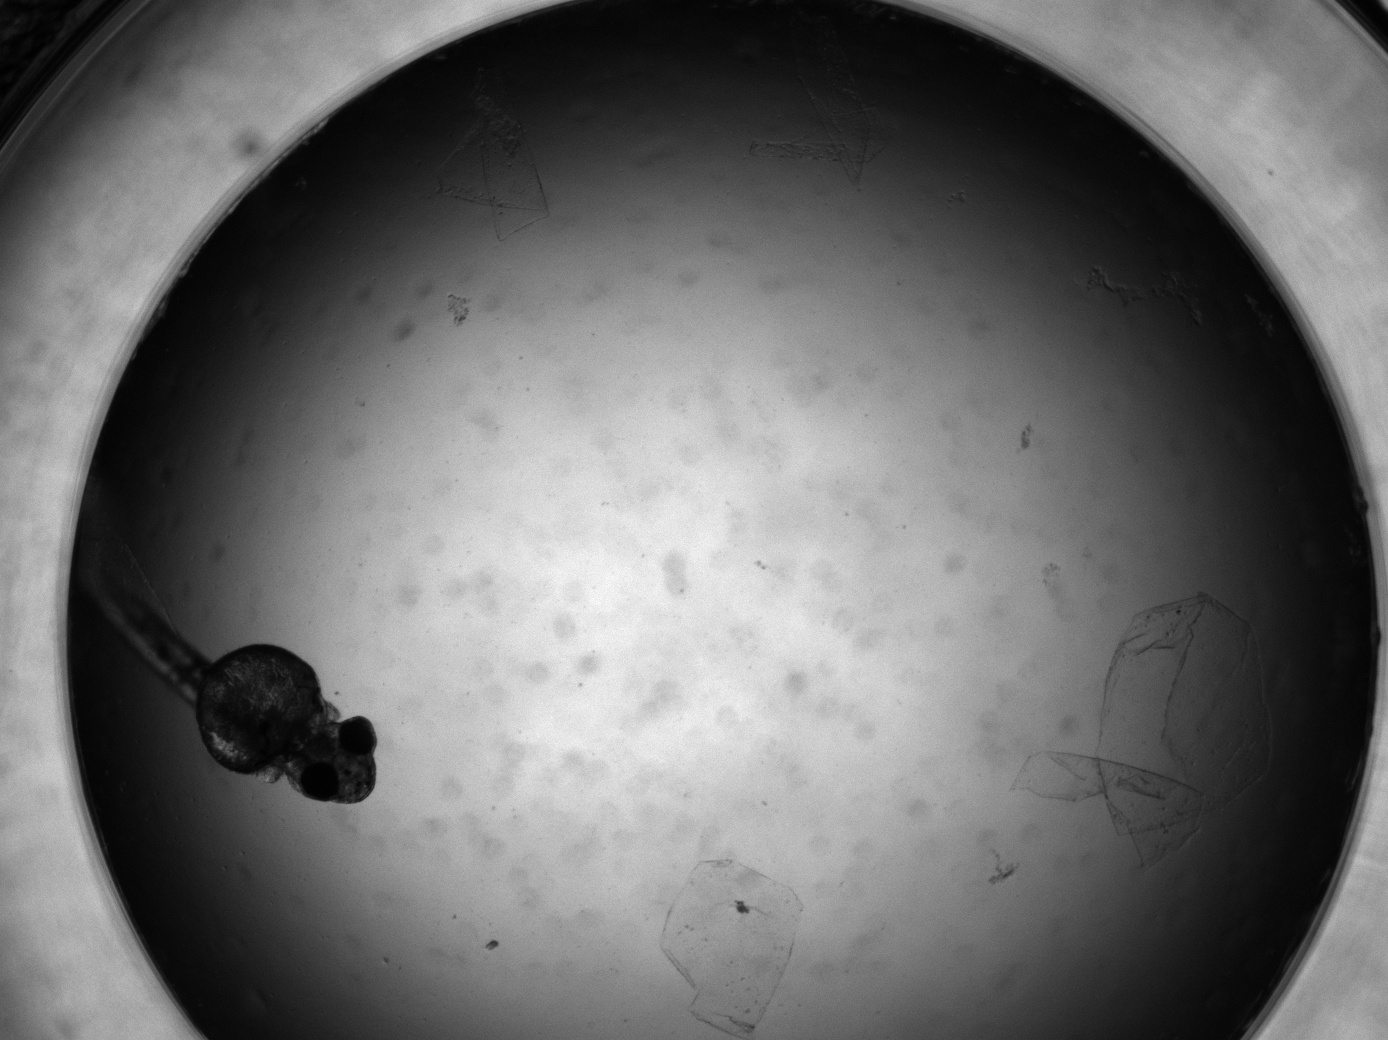debris: (1005, 593, 1267, 871), (661, 860, 806, 1039)
embryo: (78, 539, 377, 804)
eye: (339, 716, 376, 757), (300, 763, 339, 802)
yolksac: (195, 645, 328, 773)
